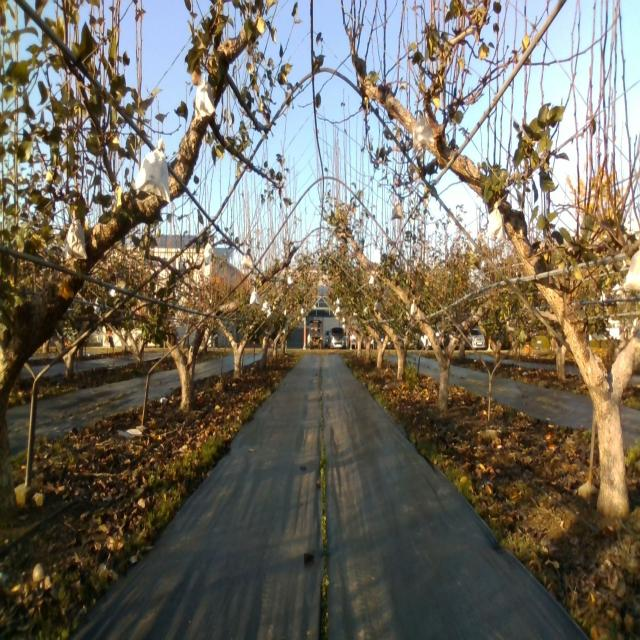pearbags: (134, 143, 171, 202), (64, 216, 87, 262), (194, 73, 217, 118), (413, 116, 435, 155), (488, 200, 506, 240), (391, 200, 403, 220)
